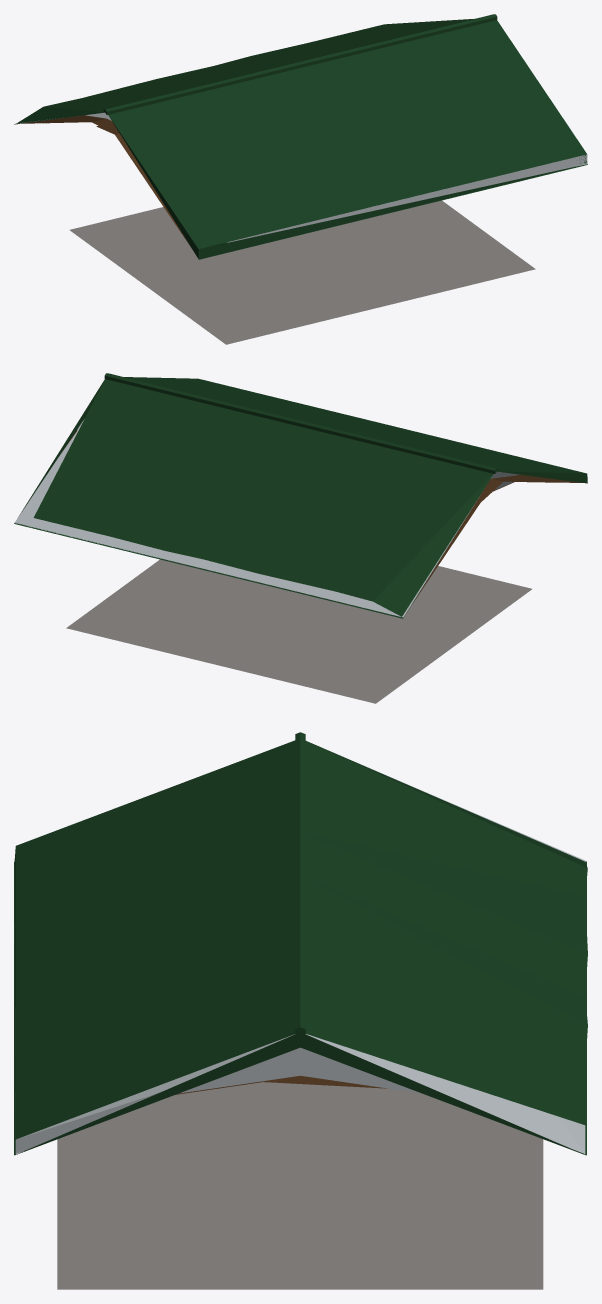
File: rest-shelter.lod2.glb
The picture shows the model from 3 angles, top to bottom: view 1: azimuth 30°, elevation 25°; view 2: azimuth 150°, elevation 25°; view 3: azimuth 270°, elevation 25°; orthographic projection. The views are drawn at different scales.
Visible parts, largest first — view 1: Material2; view 2: Material2; view 3: Material2.
Part boxes in pixels (x1,y1,x2,y2): Material2: (14,14,587,344); Material2: (14,373,587,703); Material2: (14,732,587,1289).
Size of the model in its own units: 10.35 by 4.77 by 8.51.
